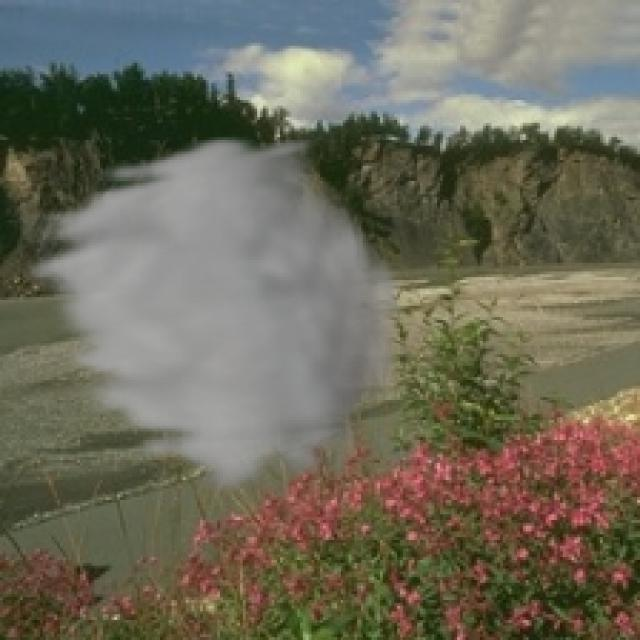Smoke: (9, 132, 412, 497)
